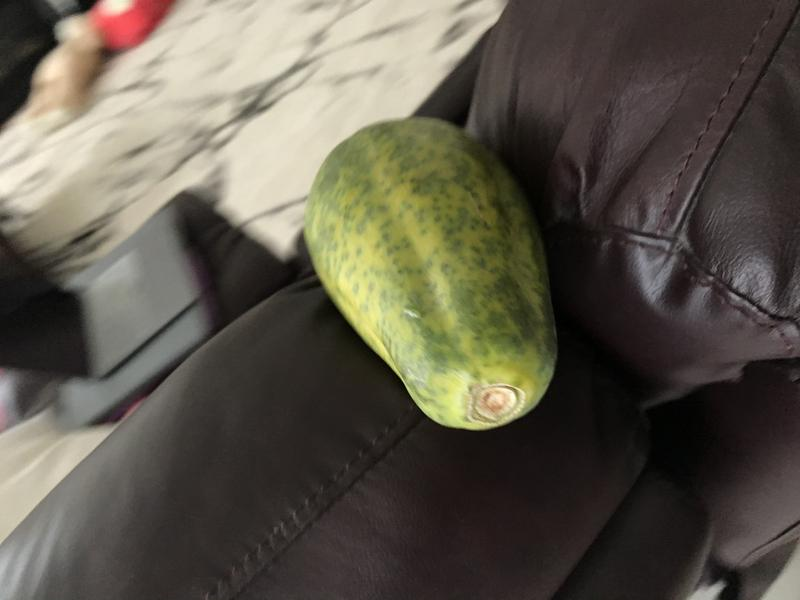papaya: (294, 106, 576, 454)
